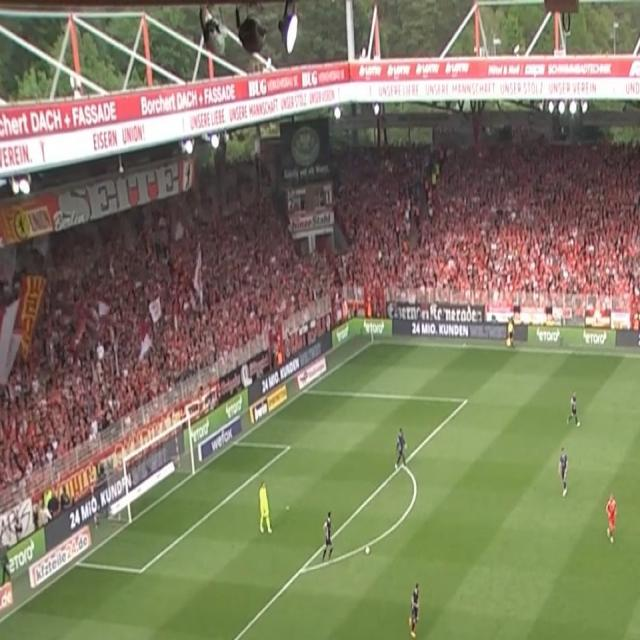ball: (365, 545, 371, 556)
